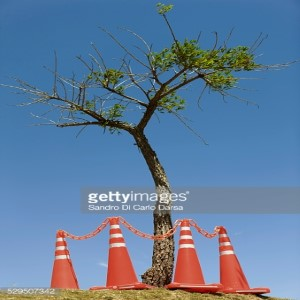traffic cone: (90, 216, 158, 289), (210, 226, 270, 293), (165, 218, 218, 290), (50, 230, 80, 289)
